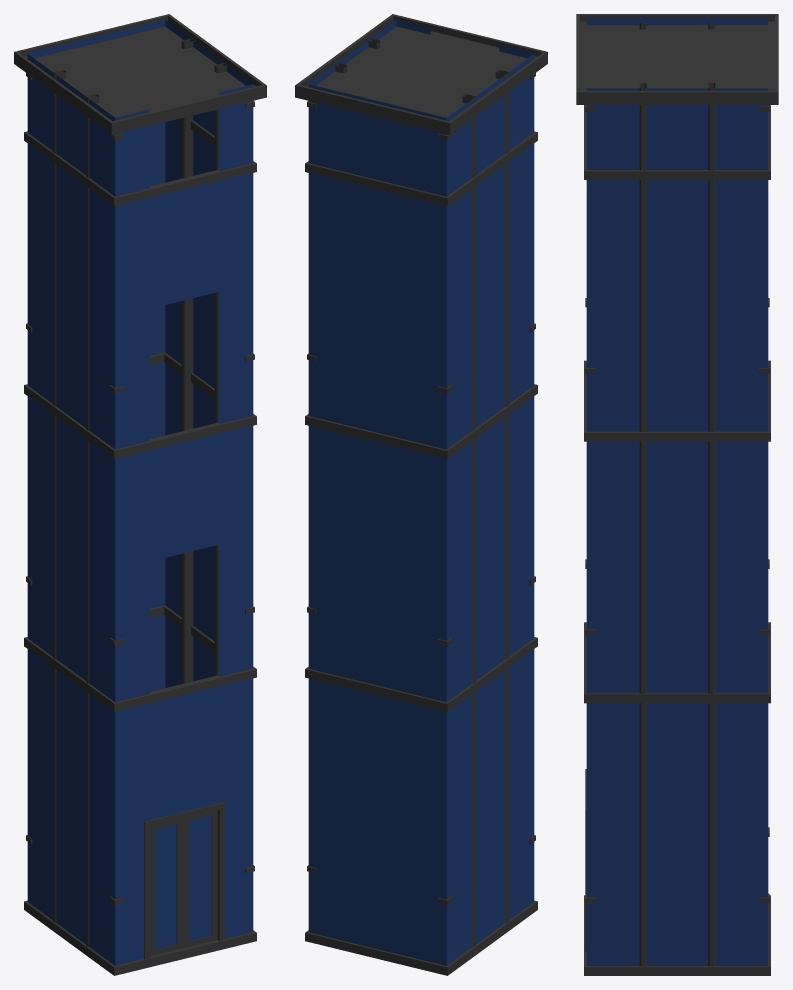
The model's file is Elevador.fbx.
The picture shows the model from 3 angles, left to right: view 1: azimuth 30°, elevation 25°; view 2: azimuth 150°, elevation 25°; view 3: azimuth 270°, elevation 25°; orthographic projection. The views are drawn at different scales.
Visible parts, largest first — view 1: Box001, Box002, Box003, Puerta2, Puerta, Rectangle002, Rectangle003, Rectangle004, Box004, Rectangle001; view 2: Box001, Box002, Box003, Rectangle004, Rectangle001, Rectangle003, Rectangle002; view 3: Box001, Box002, Box003, Rectangle002, Rectangle003, Rectangle004, Rectangle001.
Boxes of the visible parts, <box> form: Box001: <box>27,20,253,965</box>; Box002: <box>14,14,266,135</box>; Box003: <box>52,38,228,947</box>; Puerta2: <box>183,810,217,947</box>; Puerta: <box>150,819,182,955</box>; Rectangle002: <box>24,605,256,712</box>; Rectangle003: <box>24,352,256,459</box>; Rectangle004: <box>24,118,256,206</box>; Box004: <box>144,802,225,959</box>; Rectangle001: <box>24,900,256,975</box>; Box001: <box>308,20,534,965</box>; Box002: <box>295,14,547,135</box>; Box003: <box>333,38,509,947</box>; Rectangle004: <box>305,131,537,206</box>; Rectangle001: <box>305,900,537,975</box>; Rectangle003: <box>305,384,537,459</box>; Rectangle002: <box>305,637,537,712</box>; Box001: <box>586,18,768,965</box>; Box002: <box>576,14,778,104</box>; Box003: <box>639,17,715,966</box>; Rectangle002: <box>584,622,770,703</box>; Rectangle003: <box>584,360,770,441</box>; Rectangle004: <box>584,105,770,179</box>; Rectangle001: <box>584,895,770,975</box>.
Bounding box in the file's own units: 2.7 × 14.24 × 2.94.
